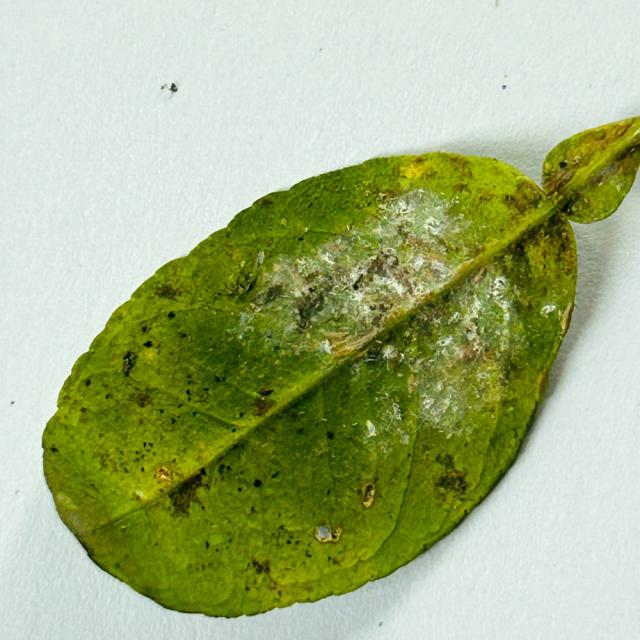Bacterial_Blight: (280, 241, 404, 334), (375, 273, 457, 354), (247, 510, 318, 569), (353, 249, 401, 294), (166, 469, 209, 516), (586, 154, 628, 192), (292, 285, 327, 327), (228, 265, 261, 297), (433, 472, 472, 499), (434, 468, 470, 495), (253, 281, 286, 310), (501, 191, 534, 216), (548, 163, 574, 191), (361, 340, 388, 365), (617, 148, 640, 177), (251, 395, 276, 418), (152, 282, 180, 301), (314, 525, 341, 543), (556, 194, 579, 215), (186, 385, 212, 403), (129, 390, 153, 408), (414, 317, 434, 338), (588, 169, 609, 189), (461, 343, 480, 365), (556, 229, 572, 255), (251, 557, 271, 576), (361, 483, 376, 508), (122, 351, 137, 375), (155, 466, 174, 483), (452, 181, 473, 195), (441, 288, 454, 304), (352, 274, 365, 290), (257, 387, 275, 397), (261, 197, 275, 207), (219, 464, 231, 474), (198, 467, 208, 479), (632, 142, 640, 157), (253, 478, 263, 488), (143, 441, 153, 451), (558, 160, 568, 169), (167, 311, 177, 320), (330, 556, 340, 565), (142, 340, 153, 348), (50, 445, 59, 454), (326, 431, 335, 439), (214, 375, 222, 383), (84, 378, 91, 387), (296, 427, 305, 434), (79, 406, 87, 413), (306, 550, 312, 558), (205, 541, 210, 549)
Lemon: (41, 118, 639, 621)
